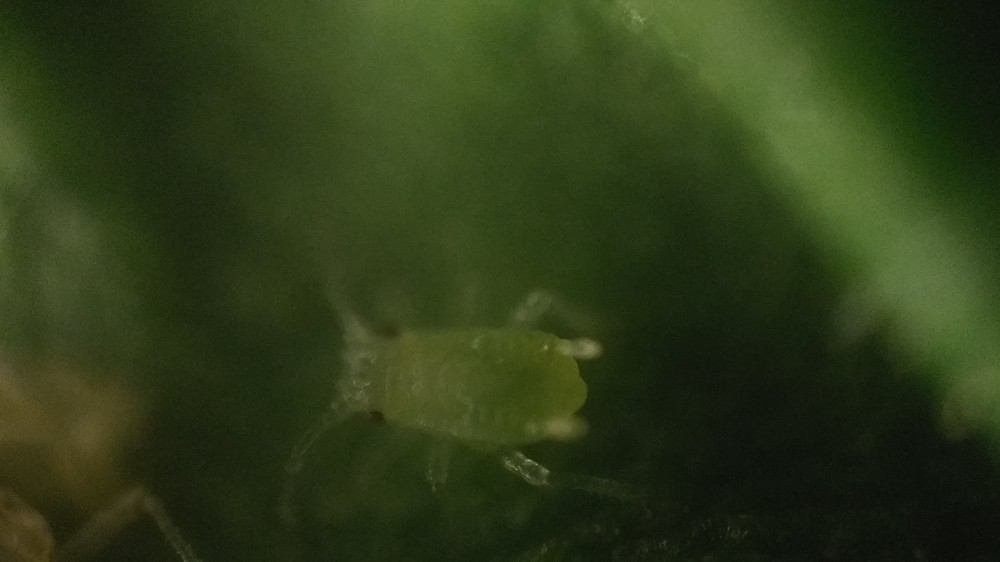Pulgon: (256, 242, 686, 534)
